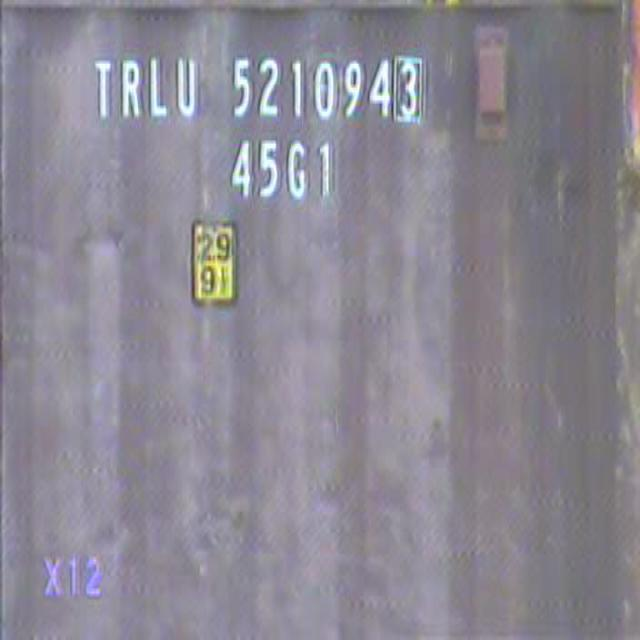container_number_h: (73, 47, 465, 210)
